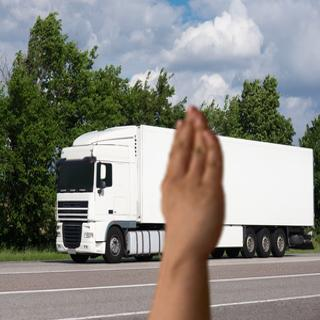RIGHT: (153, 101, 233, 262)
